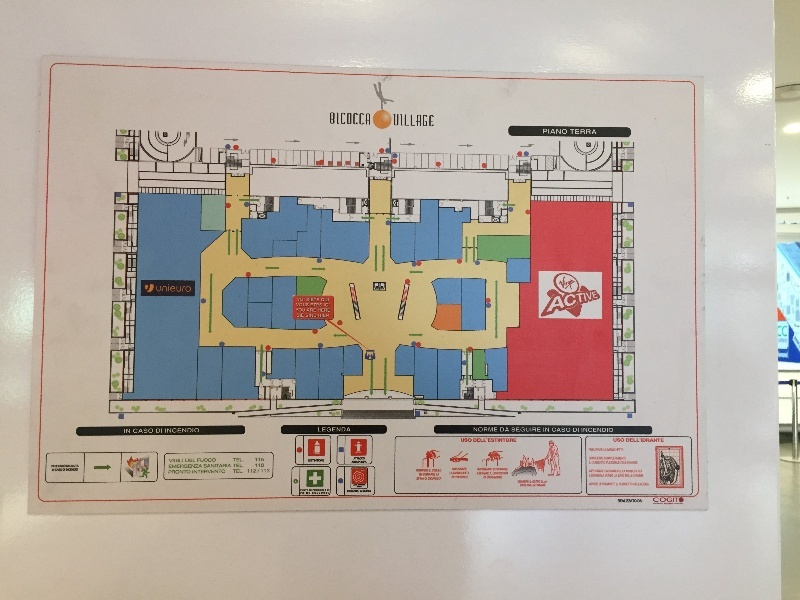text: (561, 290, 576, 319), (577, 290, 592, 319), (593, 290, 602, 319), (561, 275, 577, 290), (337, 112, 352, 126), (353, 112, 368, 126), (401, 114, 416, 127), (417, 114, 432, 127), (554, 290, 560, 319), (417, 469, 432, 480), (481, 468, 496, 479), (450, 468, 464, 479), (497, 468, 509, 479), (593, 457, 608, 465), (609, 457, 624, 465), (593, 470, 608, 478), (609, 470, 624, 478), (625, 470, 640, 478), (161, 286, 176, 293), (529, 480, 544, 487), (625, 457, 638, 465), (433, 469, 442, 480), (177, 286, 191, 293), (65, 465, 79, 472), (393, 114, 400, 127), (305, 489, 320, 495), (513, 427, 528, 433), (545, 129, 560, 135), (330, 112, 336, 126), (52, 465, 64, 472), (177, 428, 192, 433), (481, 428, 496, 433), (593, 428, 608, 433), (481, 438, 496, 443), (497, 438, 512, 443), (641, 438, 656, 443), (657, 498, 672, 503), (577, 130, 592, 135), (529, 427, 541, 433), (518, 480, 528, 487), (626, 438, 640, 443), (133, 428, 144, 434), (321, 298, 336, 302), (177, 464, 192, 468), (209, 464, 224, 468), (193, 470, 208, 474), (209, 470, 224, 474), (321, 428, 336, 432), (593, 448, 608, 452), (609, 448, 624, 452), (593, 482, 608, 486), (609, 482, 624, 486), (625, 482, 640, 486), (306, 314, 320, 318), (177, 470, 191, 474), (337, 428, 351, 432), (353, 460, 367, 464), (165, 428, 176, 433), (465, 468, 470, 479), (673, 498, 684, 503), (145, 428, 154, 434), (321, 489, 330, 495), (307, 298, 320, 302), (257, 469, 270, 473), (561, 428, 571, 433), (582, 428, 592, 433), (324, 303, 336, 307), (308, 309, 320, 313), (625, 499, 637, 503), (501, 428, 512, 432), (613, 438, 624, 442), (354, 457, 368, 460), (296, 308, 304, 313), (321, 309, 331, 313), (198, 459, 208, 463), (552, 428, 560, 433), (311, 303, 320, 307), (321, 314, 330, 318), (193, 464, 202, 468), (641, 482, 650, 486), (561, 129, 567, 135), (193, 428, 200, 433), (465, 438, 472, 443), (657, 438, 664, 443), (309, 459, 320, 462), (477, 468, 480, 479), (296, 303, 304, 307), (209, 459, 217, 463), (248, 469, 256, 473), (474, 428, 480, 433), (474, 438, 480, 443), (570, 130, 576, 135), (369, 112, 371, 126), (156, 286, 160, 293), (297, 298, 304, 302), (297, 314, 304, 318), (169, 459, 176, 463), (177, 459, 184, 463), (257, 458, 264, 462), (169, 464, 176, 468), (233, 464, 240, 468), (257, 463, 264, 467), (169, 470, 176, 474), (186, 459, 192, 463), (234, 458, 240, 462), (225, 464, 231, 468), (589, 457, 592, 465), (589, 470, 592, 478), (641, 470, 644, 478), (618, 499, 624, 503), (233, 470, 240, 473), (353, 490, 360, 493), (361, 490, 368, 493), (545, 480, 548, 487), (545, 428, 550, 432), (609, 428, 613, 433), (513, 438, 517, 443), (593, 130, 597, 135), (301, 489, 304, 495), (305, 303, 309, 307), (156, 429, 160, 433), (241, 458, 245, 462), (204, 464, 208, 468), (241, 464, 245, 468), (664, 503, 672, 505), (559, 275, 560, 290), (125, 429, 128, 434), (347, 490, 352, 493), (363, 490, 368, 493), (573, 428, 576, 433), (461, 438, 464, 443), (653, 498, 656, 503), (433, 114, 434, 127), (193, 459, 196, 463), (321, 459, 325, 462), (589, 448, 592, 452), (129, 429, 131, 434), (577, 428, 579, 433), (241, 470, 244, 473), (369, 490, 372, 493), (321, 303, 323, 307), (318, 309, 320, 313), (161, 429, 163, 433), (318, 428, 320, 432), (590, 482, 592, 486), (638, 500, 640, 503), (641, 500, 643, 503), (543, 129, 544, 135), (497, 428, 498, 433), (319, 314, 320, 318), (255, 463, 256, 467), (225, 470, 226, 474)
